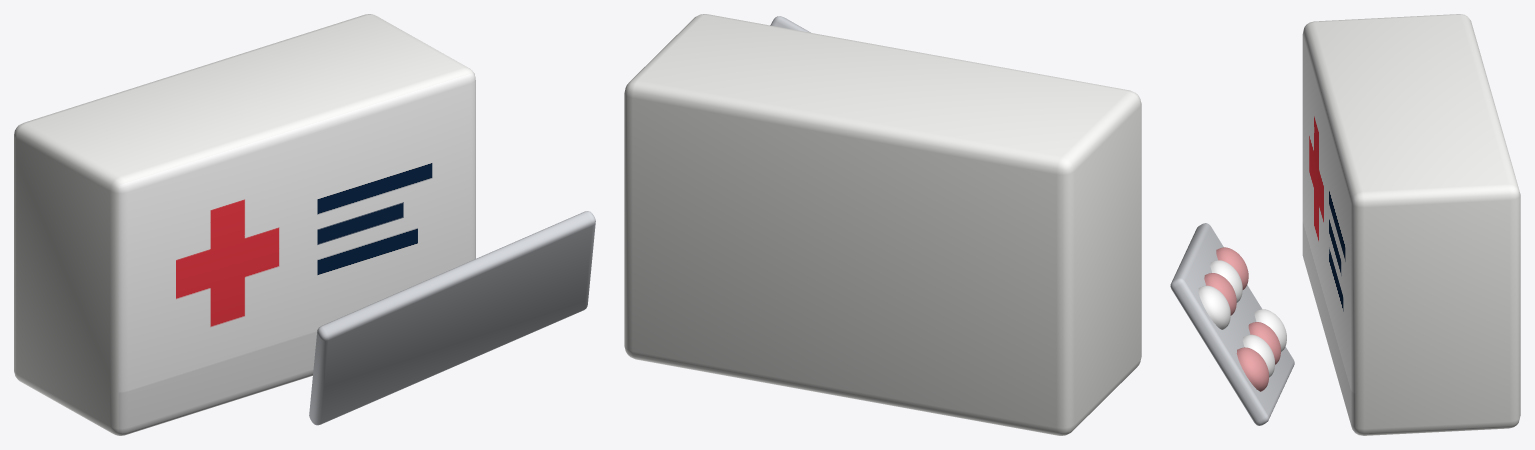
The model's file is medicinas.fbx.
The picture shows the model from 3 angles, left to right: view 1: azimuth 30°, elevation 25°; view 2: azimuth 150°, elevation 25°; view 3: azimuth 270°, elevation 25°; orthographic projection. The views are drawn at different scales.
Parts seen in each view (by area): view 1: fafaf8, d7dadf; view 2: fafaf8; view 3: fafaf8, d7dadf, ffffff_04, e7a1a4_04, ffffff_02, e7a1a4, e7a1a4_03, ffffff_03, ffffff, e7a1a4_02.
Boxes of the visible parts, x1,y1,x2,y2 form: fafaf8: (14,14,475,435); d7dadf: (309,211,595,425); fafaf8: (624,14,1141,435); fafaf8: (1302,14,1520,435); d7dadf: (1170,223,1294,425); ffffff_04: (1198,285,1230,329); e7a1a4_04: (1236,347,1268,391); ffffff_02: (1210,260,1242,302); e7a1a4: (1216,247,1248,289); e7a1a4_03: (1204,273,1236,315); ffffff_03: (1242,334,1274,377); ffffff: (1254,309,1286,351); e7a1a4_02: (1248,322,1280,364).
Size of the model in its own units: 1.69 by 0.9774 by 1.17.
Materials: 5 (1 with a texture image).
